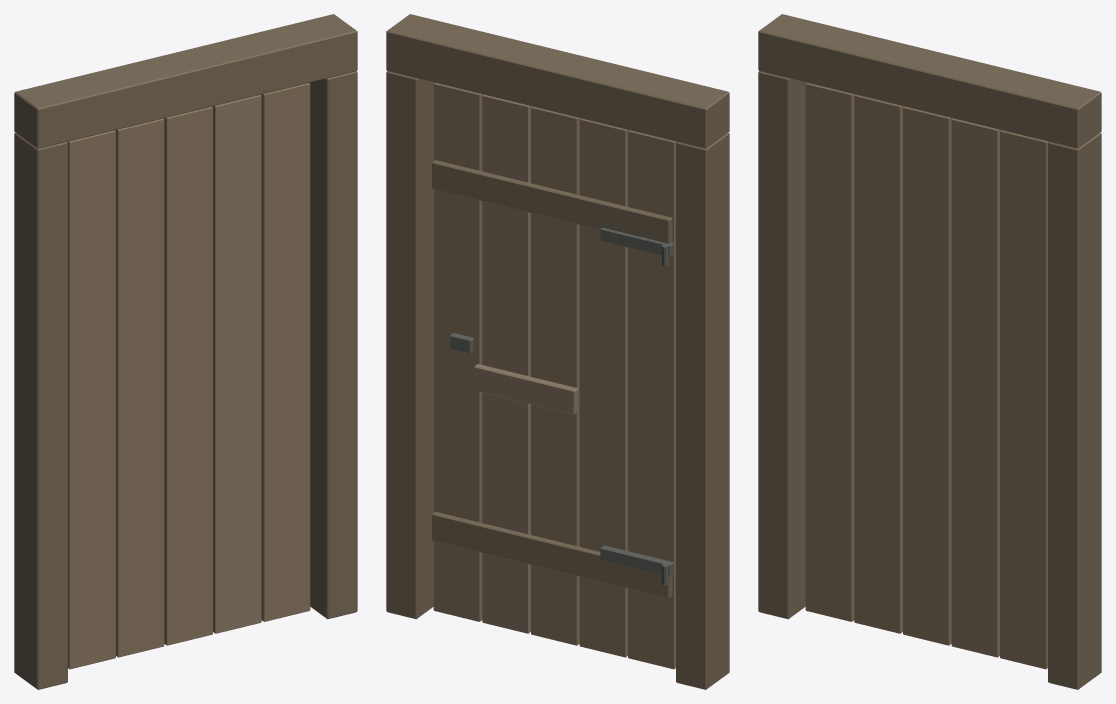
File: env_door_patched_a.glb
3 views of the same model, side by side, from view 1: azimuth 30°, elevation 25°; view 2: azimuth 150°, elevation 25°; view 3: azimuth 330°, elevation 25° (orthographic).
Parts seen in each view (by area): view 1: door_leaf_material_5, root_material_7, door_leaf_material_6; view 2: door_leaf_material_5, root_material_7, door_leaf_material_6, door_leaf_material_7, door_leaf_material_8; view 3: door_leaf_material_5, root_material_7, door_leaf_material_6.
Boxes of the visible parts, <box> form: door_leaf_material_5: <box>67,83,310,669</box>; root_material_7: <box>14,14,357,689</box>; door_leaf_material_6: <box>212,94,261,633</box>; door_leaf_material_5: <box>433,83,676,669</box>; root_material_7: <box>386,14,729,689</box>; door_leaf_material_6: <box>474,94,577,633</box>; door_leaf_material_7: <box>432,160,672,598</box>; door_leaf_material_8: <box>450,227,673,576</box>; door_leaf_material_5: <box>805,83,1048,669</box>; root_material_7: <box>758,14,1101,689</box>; door_leaf_material_6: <box>951,118,1000,657</box>.
Bounding box in the file's own units: 1.24 × 2.15 × 0.187.
